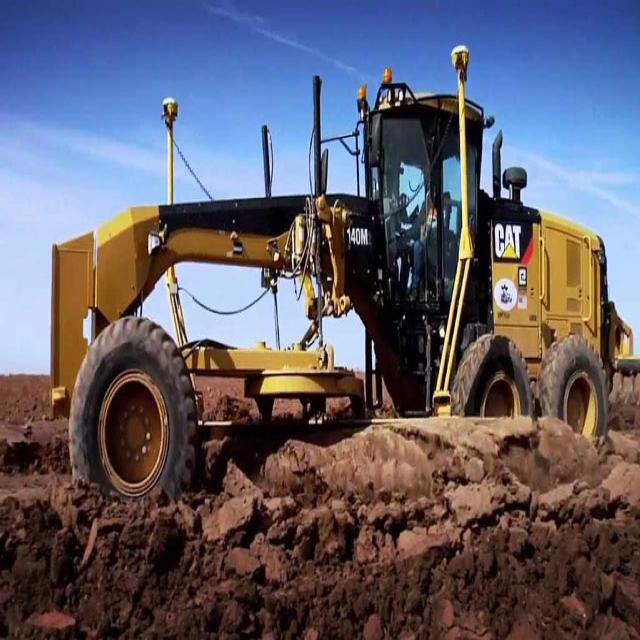buldozerpayloadergrader: (56, 51, 616, 530)
